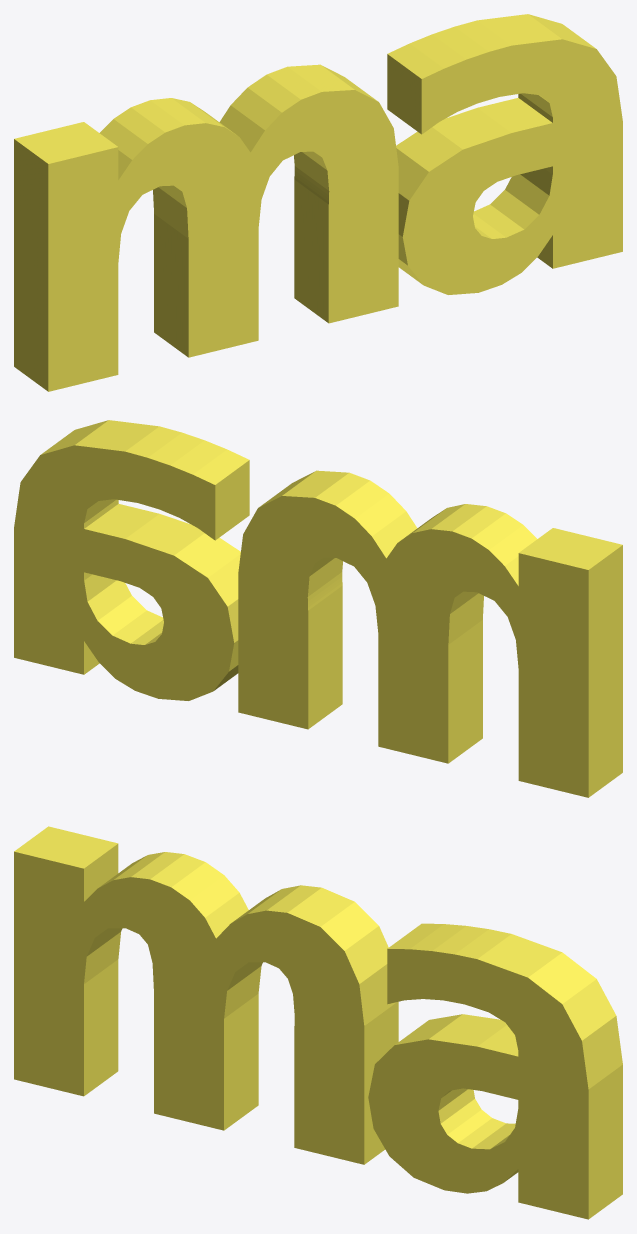
Rendered from suku_kecil_ma.glb.
3 renders of one model, top to bottom at view 1: azimuth 30°, elevation 25°; view 2: azimuth 150°, elevation 25°; view 3: azimuth 330°, elevation 25°, orthographic.
Visible parts, largest first — view 1: geometry_0; view 2: geometry_0; view 3: geometry_0.
Part boxes in pixels (bbox=[...]): geometry_0: bbox=[14, 14, 622, 391]; geometry_0: bbox=[14, 420, 622, 797]; geometry_0: bbox=[14, 826, 622, 1219].
Bounding box in the file's own units: 14.43 × 5.74 × 1.5.
